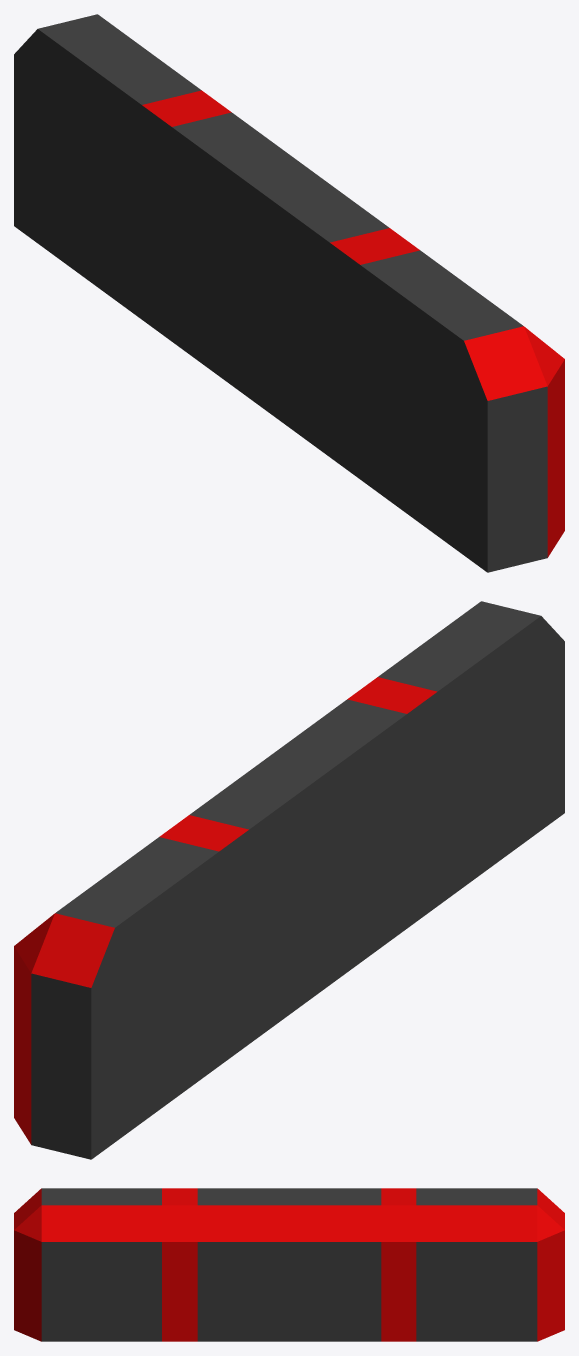
File: wallAddon.fbx
The picture shows the model from 3 angles, top to bottom: view 1: azimuth 30°, elevation 25°; view 2: azimuth 150°, elevation 25°; view 3: azimuth 270°, elevation 25°; orthographic projection. The views are drawn at different scales.
Visible parts, largest first — view 1: polySurface9; view 2: polySurface9; view 3: polySurface9.
Part boxes in pixels (<box>): polySurface9: <box>14,14,564,572</box>; polySurface9: <box>14,601,564,1159</box>; polySurface9: <box>14,1188,564,1341</box>.
Bounding box in the file's own units: 0.7391 × 1.5 × 6.
